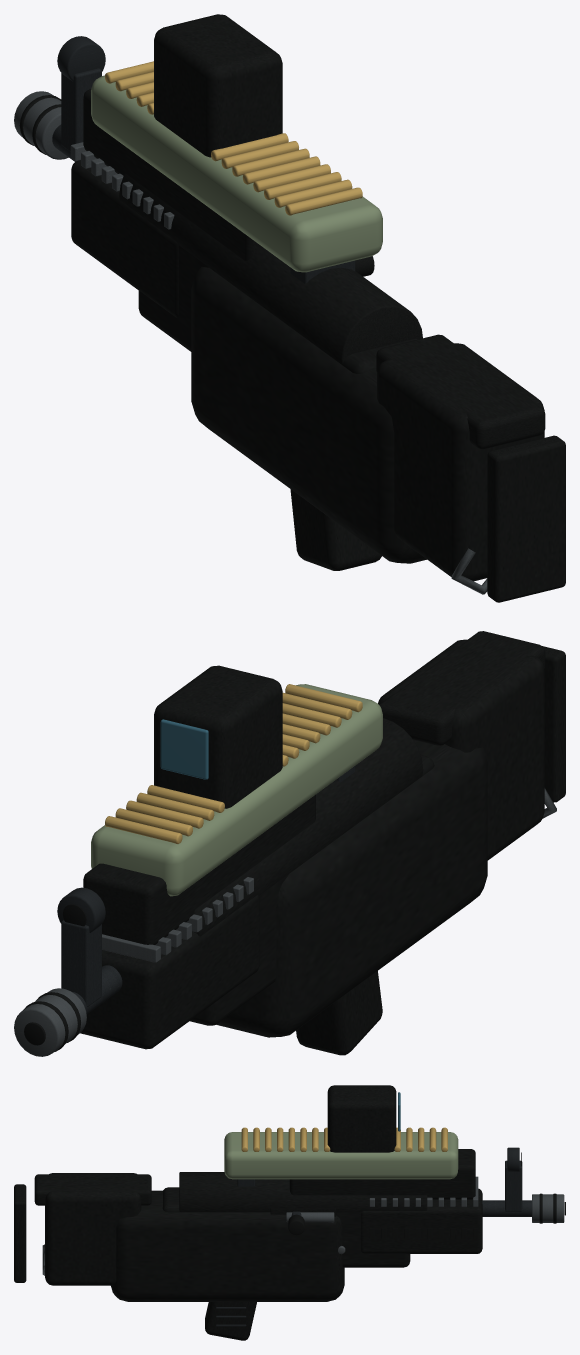
The picture shows the model from 3 angles, top to bottom: view 1: azimuth 30°, elevation 25°; view 2: azimuth 150°, elevation 25°; view 3: azimuth 270°, elevation 25°; orthographic projection. The views are drawn at different scales.
Visible parts, largest first — view 1: weapon_Weapon finish / Polymer, weapon_Polymer, magazine_Weapon finish / Olive rifle finish, magazine_Brass hardware, magazine_Polymer, weapon_Machined edges, weapon_Parkerized steel; view 2: weapon_Weapon finish / Polymer, weapon_Polymer, magazine_Weapon finish / Olive rifle finish, magazine_Polymer, magazine_Brass hardware, weapon_Machined edges, weapon_Parkerized steel, weapon_Coated scope glass; view 3: weapon_Weapon finish / Polymer, weapon_Polymer, magazine_Weapon finish / Olive rifle finish, magazine_Polymer, weapon_Parkerized steel, magazine_Brass hardware, weapon_Machined edges, bolt_Machined edges.
Boxes of the visible parts, x1=… form: weapon_Weapon finish / Polymer: x1=71, y1=160, x2=545, y2=581; weapon_Polymer: x1=19, y1=14, x2=565, y2=602; magazine_Weapon finish / Olive rifle finish: x1=91, y1=75, x2=382, y2=272; magazine_Brass hardware: x1=105, y1=61, x2=362, y2=215; magazine_Polymer: x1=83, y1=89, x2=261, y2=260; weapon_Machined edges: x1=14, y1=91, x2=487, y2=594; weapon_Parkerized steel: x1=52, y1=36, x2=355, y2=283; weapon_Weapon finish / Polymer: x1=80, y1=631, x2=545, y2=1049; weapon_Polymer: x1=23, y1=646, x2=565, y2=1055; magazine_Weapon finish / Olive rifle finish: x1=91, y1=684, x2=382, y2=896; magazine_Polymer: x1=83, y1=794, x2=315, y2=944; magazine_Brass hardware: x1=105, y1=684, x2=362, y2=843; weapon_Machined edges: x1=14, y1=788, x2=556, y2=1056; weapon_Parkerized steel: x1=57, y1=766, x2=355, y2=1013; weapon_Coated scope glass: x1=160, y1=719, x2=208, y2=779; weapon_Weapon finish / Polymer: x1=34, y1=1172, x2=482, y2=1301; weapon_Polymer: x1=14, y1=1085, x2=565, y2=1340; magazine_Weapon finish / Olive rifle finish: x1=224, y1=1132, x2=458, y2=1179; magazine_Polymer: x1=289, y1=1149, x2=475, y2=1199; weapon_Parkerized steel: x1=216, y1=1147, x2=531, y2=1326; magazine_Brass hardware: x1=241, y1=1127, x2=447, y2=1151; weapon_Machined edges: x1=42, y1=1176, x2=564, y2=1275; bolt_Machined edges: x1=286, y1=1212, x2=334, y2=1222.
Size of the model in its own units: 0.134 by 0.388 by 0.801.
7 materials, 4 textured.
